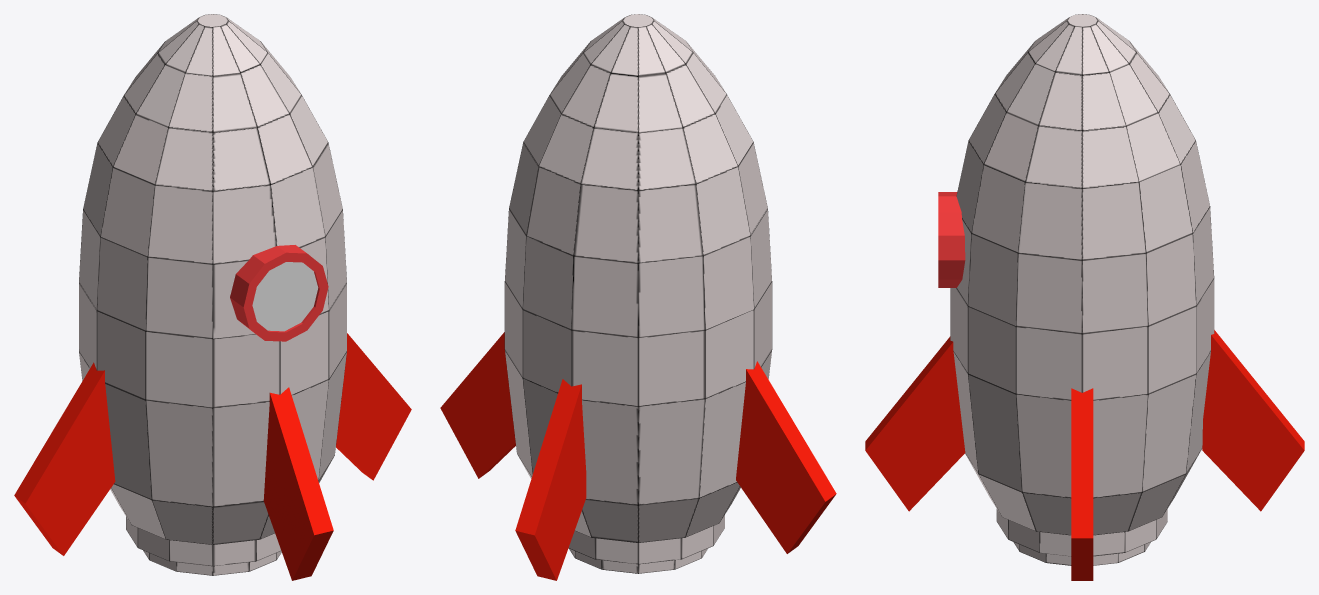
The model's file is rockett.fbx.
The picture shows the model from 3 angles, left to right: view 1: azimuth 30°, elevation 25°; view 2: azimuth 150°, elevation 25°; view 3: azimuth 270°, elevation 25°; orthographic projection.
Visible parts, largest first — view 1: body, wing.001, window, window.004; view 2: body, wing.001; view 3: body, wing.001, window.
Boxes of the visible parts, box(x1,y1,x2,y2) form: body: box(79, 14, 346, 575); wing.001: box(14, 333, 411, 580); window: box(230, 245, 328, 341); window.004: box(252, 262, 318, 331); body: box(504, 14, 772, 573); wing.001: box(440, 332, 836, 580); body: box(950, 14, 1214, 565); wing.001: box(865, 330, 1304, 580); window: box(938, 192, 965, 287).
Bounding box in the file's own units: 333 × 431 × 333.
Materials: 4 (2 with a texture image).
